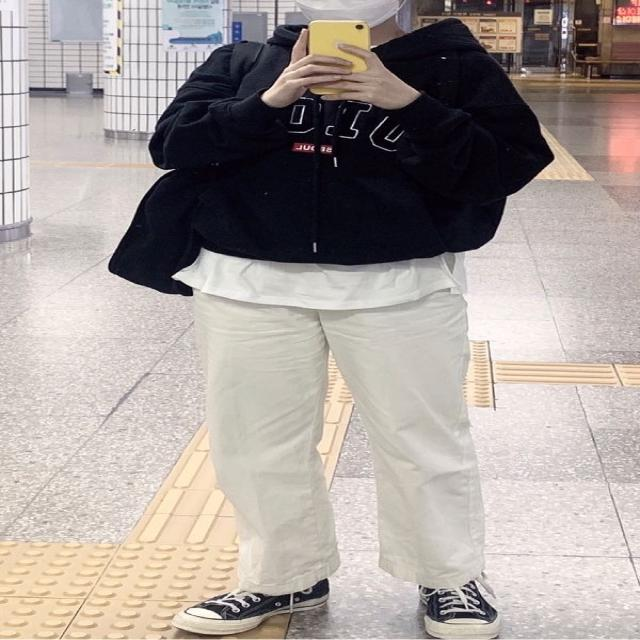cottonpants: (192, 275, 485, 592)
hoodies: (147, 16, 548, 270)
